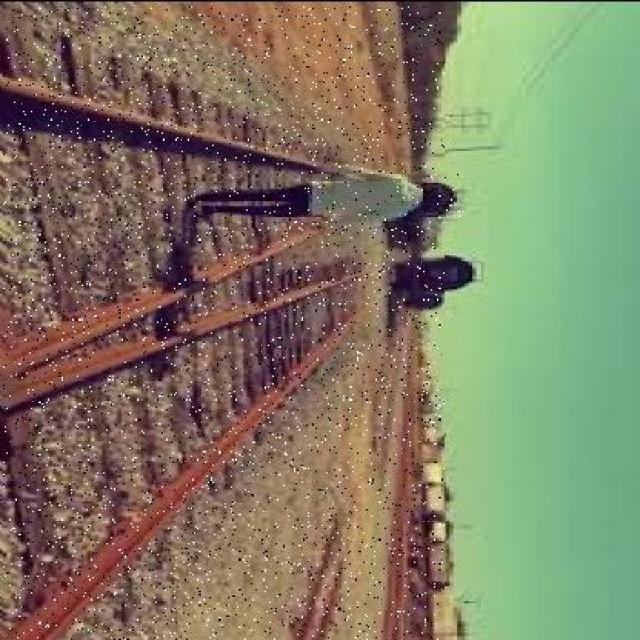danger: (196, 172, 467, 226)
rail: (3, 5, 444, 638)
